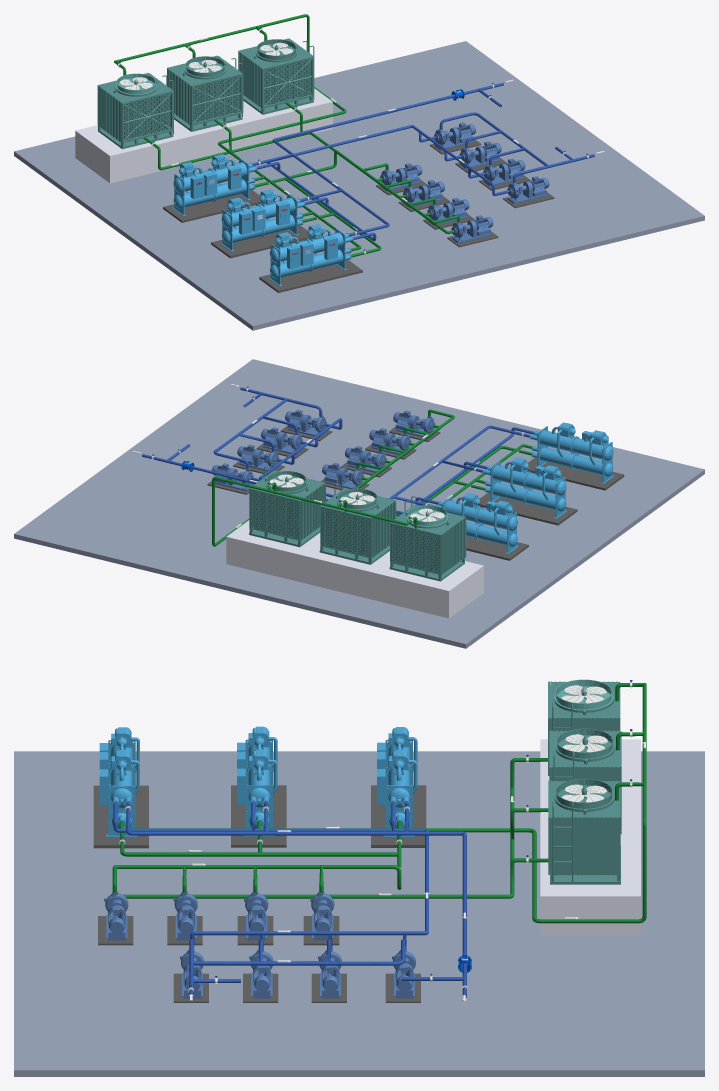
3 views of the same model, one above another, from view 1: azimuth 30°, elevation 25°; view 2: azimuth 150°, elevation 25°; view 3: azimuth 270°, elevation 25° (orthographic). The views are drawn at different scales.
Visible parts, largest first — view 1: 111-地面, 立方体, 1#冷却塔.001, 3#冷却塔, 2#冷却塔, 2#空调主机, 3#空调主机, 1#冷水机, 红管道, 蓝管道, 绿管道, 黄管道2 (+13 smaller); view 2: 111-地面, 立方体, 1#冷却塔.001, 3#冷却塔, 2#冷却塔, 2#空调主机, 3#空调主机, 1#冷水机, 红管道, 黄管道2, 蓝管道, 绿管道 (+12 smaller); view 3: 111-地面, 立方体, 3#冷却塔, 2#冷却塔, 1#冷却塔.001, 红管道, 3#空调主机, 黄管道2, 2#空调主机, 1#冷水机, 绿管道, 蓝管道 (+13 smaller).
Part boxes in pixels (<box>): 111-地面: <box>14,41,704,330</box>; 立方体: <box>75,88,332,183</box>; 1#冷却塔.001: <box>97,73,173,149</box>; 3#冷却塔: <box>238,38,314,114</box>; 2#冷却塔: <box>167,55,243,131</box>; 2#空调主机: <box>220,189,305,251</box>; 3#空调主机: <box>269,224,353,286</box>; 1#冷水机: <box>173,154,257,216</box>; 红管道: <box>114,14,361,251</box>; 蓝管道: <box>252,82,503,236</box>; 绿管道: <box>256,125,509,241</box>; 黄管道2: <box>254,150,459,257</box>; 111-地面: <box>14,359,704,648</box>; 立方体: <box>226,520,483,618</box>; 1#冷却塔.001: <box>389,496,466,581</box>; 3#冷却塔: <box>249,462,325,547</box>; 2#冷却塔: <box>319,479,396,564</box>; 2#空调主机: <box>482,457,566,518</box>; 3#空调主机: <box>529,422,613,483</box>; 1#冷水机: <box>434,493,518,554</box>; 红管道: <box>212,444,532,546</box>; 黄管道2: <box>355,409,532,516</box>; 蓝管道: <box>142,425,530,505</box>; 绿管道: <box>251,418,534,514</box>; 111-地面: <box>14,751,704,1076</box>; 立方体: <box>540,739,640,935</box>; 3#冷却塔: <box>548,778,620,884</box>; 2#冷却塔: <box>549,728,621,834</box>; 1#冷却塔.001: <box>548,679,620,775</box>; 红管道: <box>119,682,646,923</box>; 3#空调主机: <box>99,727,139,836</box>; 黄管道2: <box>112,832,401,892</box>; 2#空调主机: <box>237,726,277,836</box>; 1#冷水机: <box>377,727,417,836</box>; 绿管道: <box>113,802,428,951</box>; 蓝管道: <box>126,802,466,997</box>.
Size of the model in its own units: 21.8 by 4.37 by 19.95.
